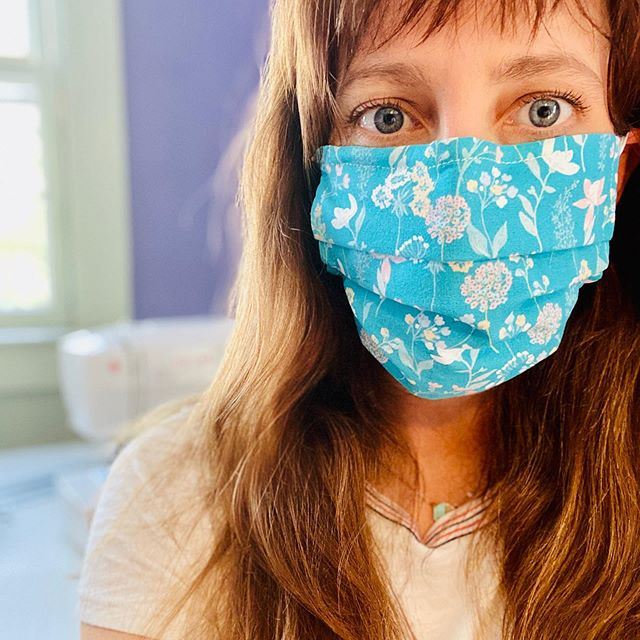homemade: (313, 130, 626, 388)
